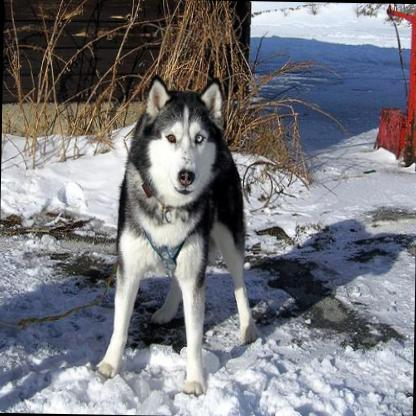Siberian_husky: (98, 73, 264, 393)
